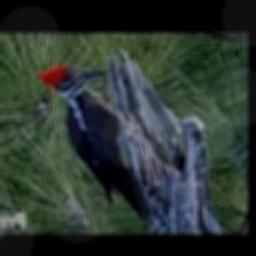Woodpecker: (37, 63, 147, 224)
